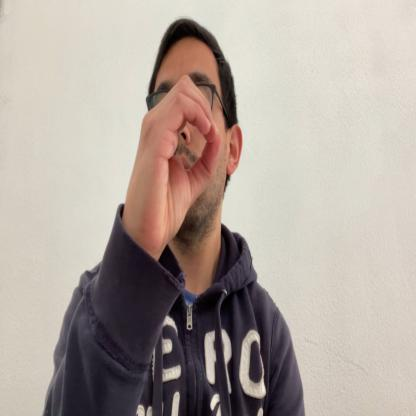O: (126, 72, 220, 250)
